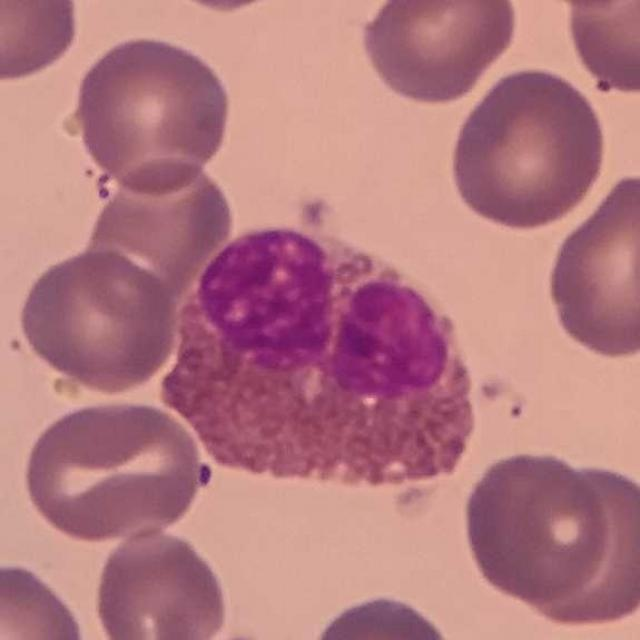Eosinophil: (139, 206, 497, 513)
RBC: (444, 62, 611, 233), (18, 395, 209, 544), (67, 30, 235, 197), (75, 148, 233, 321), (15, 244, 182, 395), (460, 446, 614, 608), (522, 459, 639, 630), (542, 168, 640, 361), (355, 0, 521, 107), (89, 523, 232, 640), (303, 589, 461, 640), (561, 0, 640, 97), (0, 555, 90, 640), (0, 0, 83, 85), (147, 0, 308, 14), (504, 0, 640, 13)
